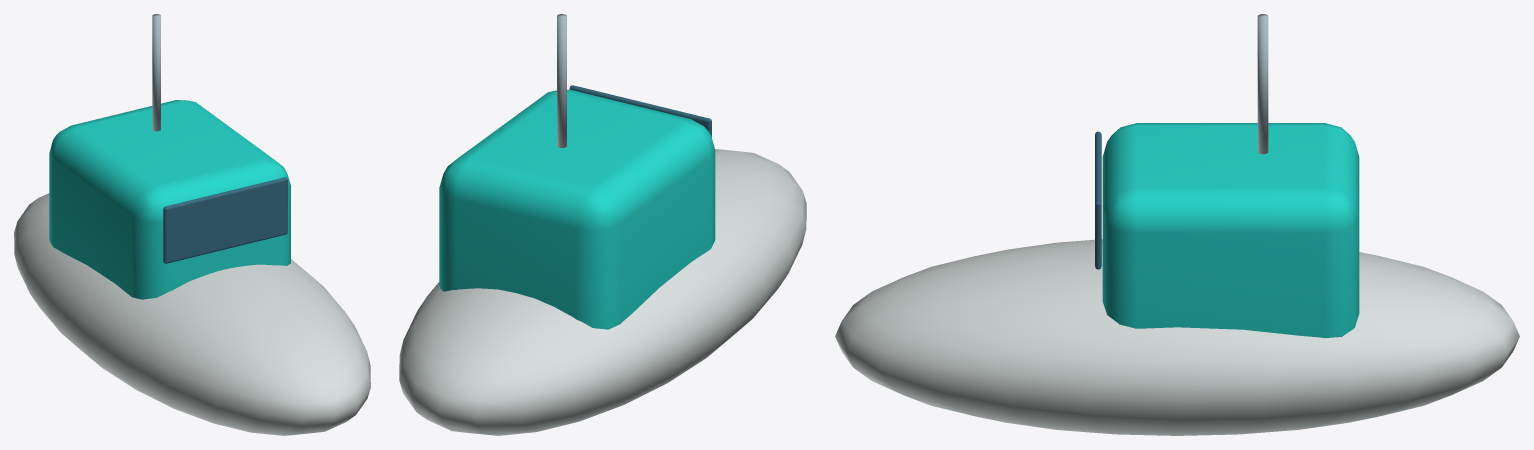
Rendered from Harbor_boat.glb.
3 renders of one model, left to right at view 1: azimuth 30°, elevation 25°; view 2: azimuth 150°, elevation 25°; view 3: azimuth 270°, elevation 25°, orthographic. The views are drawn at different scales.
Parts seen in each view (by area): view 1: Boat hull, Cabin, Windshield, Mast; view 2: Cabin, Boat hull, Mast, Windshield; view 3: Boat hull, Cabin, Mast, Windshield.
Boxes of the visible parts, x1,y1,x2,y2 form: Boat hull: (14, 193, 370, 435); Cabin: (49, 100, 290, 299); Windshield: (163, 177, 287, 263); Mast: (152, 14, 160, 131); Cabin: (439, 89, 715, 329); Boat hull: (399, 149, 806, 435); Mast: (557, 14, 566, 147); Windshield: (569, 85, 711, 137); Boat hull: (835, 239, 1519, 435); Cabin: (1102, 123, 1359, 338); Mast: (1257, 14, 1268, 154); Windshield: (1095, 131, 1101, 269).
Bounding box in the file's own units: 1.4 × 2.05 × 3.2.
